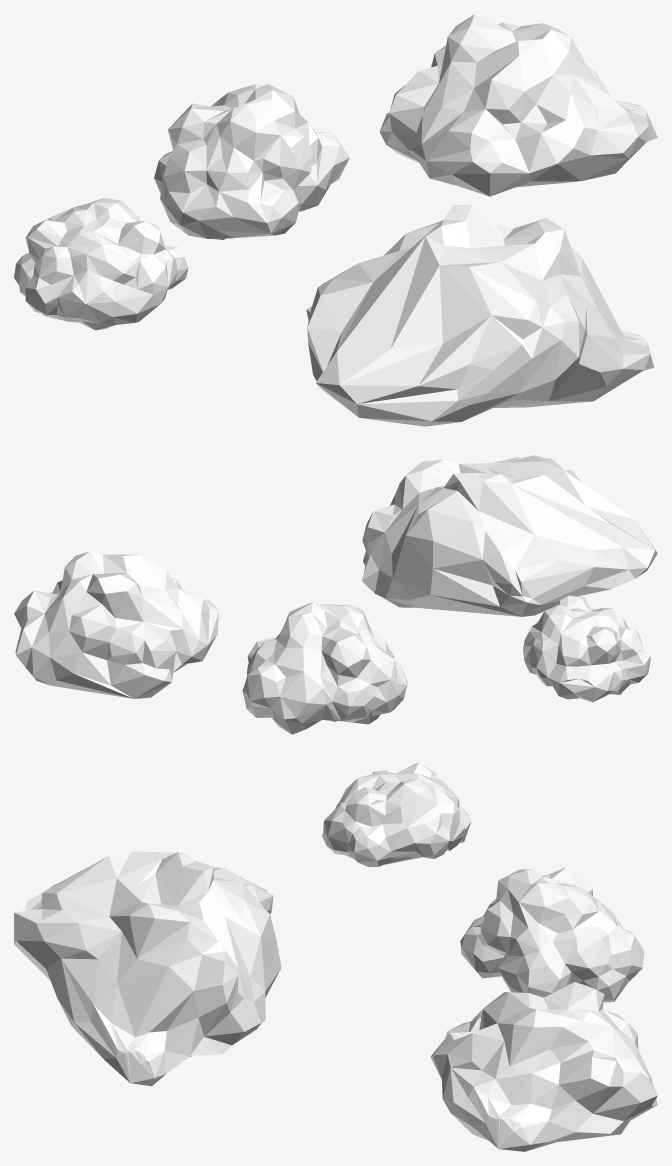
The model's file is Clouds.fbx.
3 renders of one model, top to bottom at view 1: azimuth 30°, elevation 25°; view 2: azimuth 150°, elevation 25°; view 3: azimuth 270°, elevation 25°, orthographic. The views are drawn at different scales.
Visible parts, largest first — view 1: Group001, Group8069, Group46385, Group38195; view 2: Group001, Group8069, Group46385, Group38195; view 3: Group001, Group8069, Group46385, Group38195.
Part boxes in pixels (left/top/right/bottom): Group001: left=306, top=205, right=653, bottom=426; Group8069: left=379, top=14, right=657, bottom=196; Group46385: left=154, top=84, right=349, bottom=239; Group38195: left=14, top=198, right=188, bottom=330; Group001: left=361, top=455, right=657, bottom=616; Group8069: left=14, top=551, right=219, bottom=698; Group46385: left=242, top=601, right=407, bottom=734; Group38195: left=523, top=595, right=650, bottom=702; Group001: left=14, top=851, right=281, bottom=1086; Group8069: left=430, top=982, right=657, bottom=1151; Group46385: left=460, top=867, right=644, bottom=1002; Group38195: left=322, top=763, right=471, bottom=866.
Bounding box in the file's own units: 3127 × 756 × 2813.
